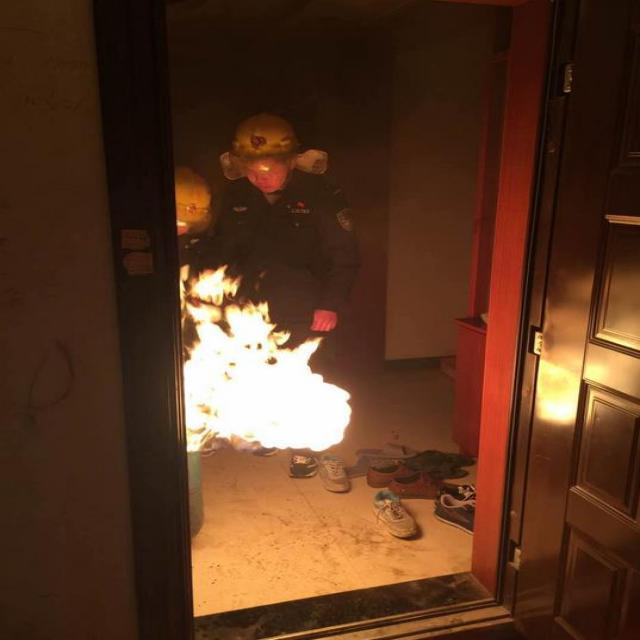Fire: (175, 262, 358, 456)
